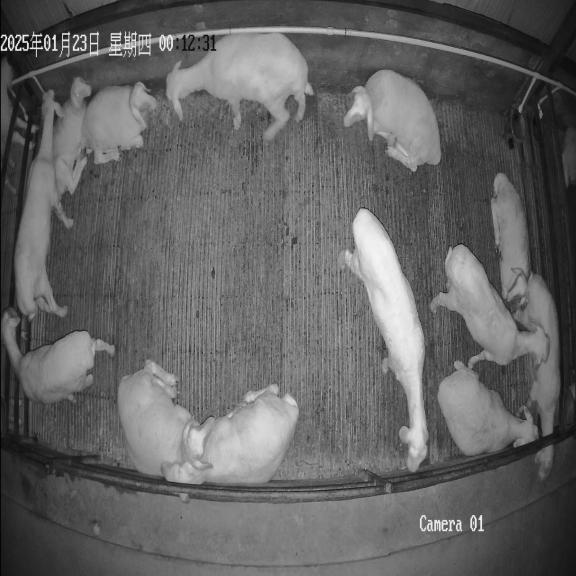drinking: (14, 91, 73, 320)
eating: (514, 273, 560, 478)
lying: (161, 384, 299, 484), (118, 360, 215, 476), (343, 69, 441, 172), (437, 361, 538, 456), (82, 82, 157, 164), (491, 173, 530, 302), (53, 78, 91, 195)
stand: (338, 208, 428, 471), (166, 32, 313, 140), (430, 244, 549, 370), (2, 308, 114, 404)
